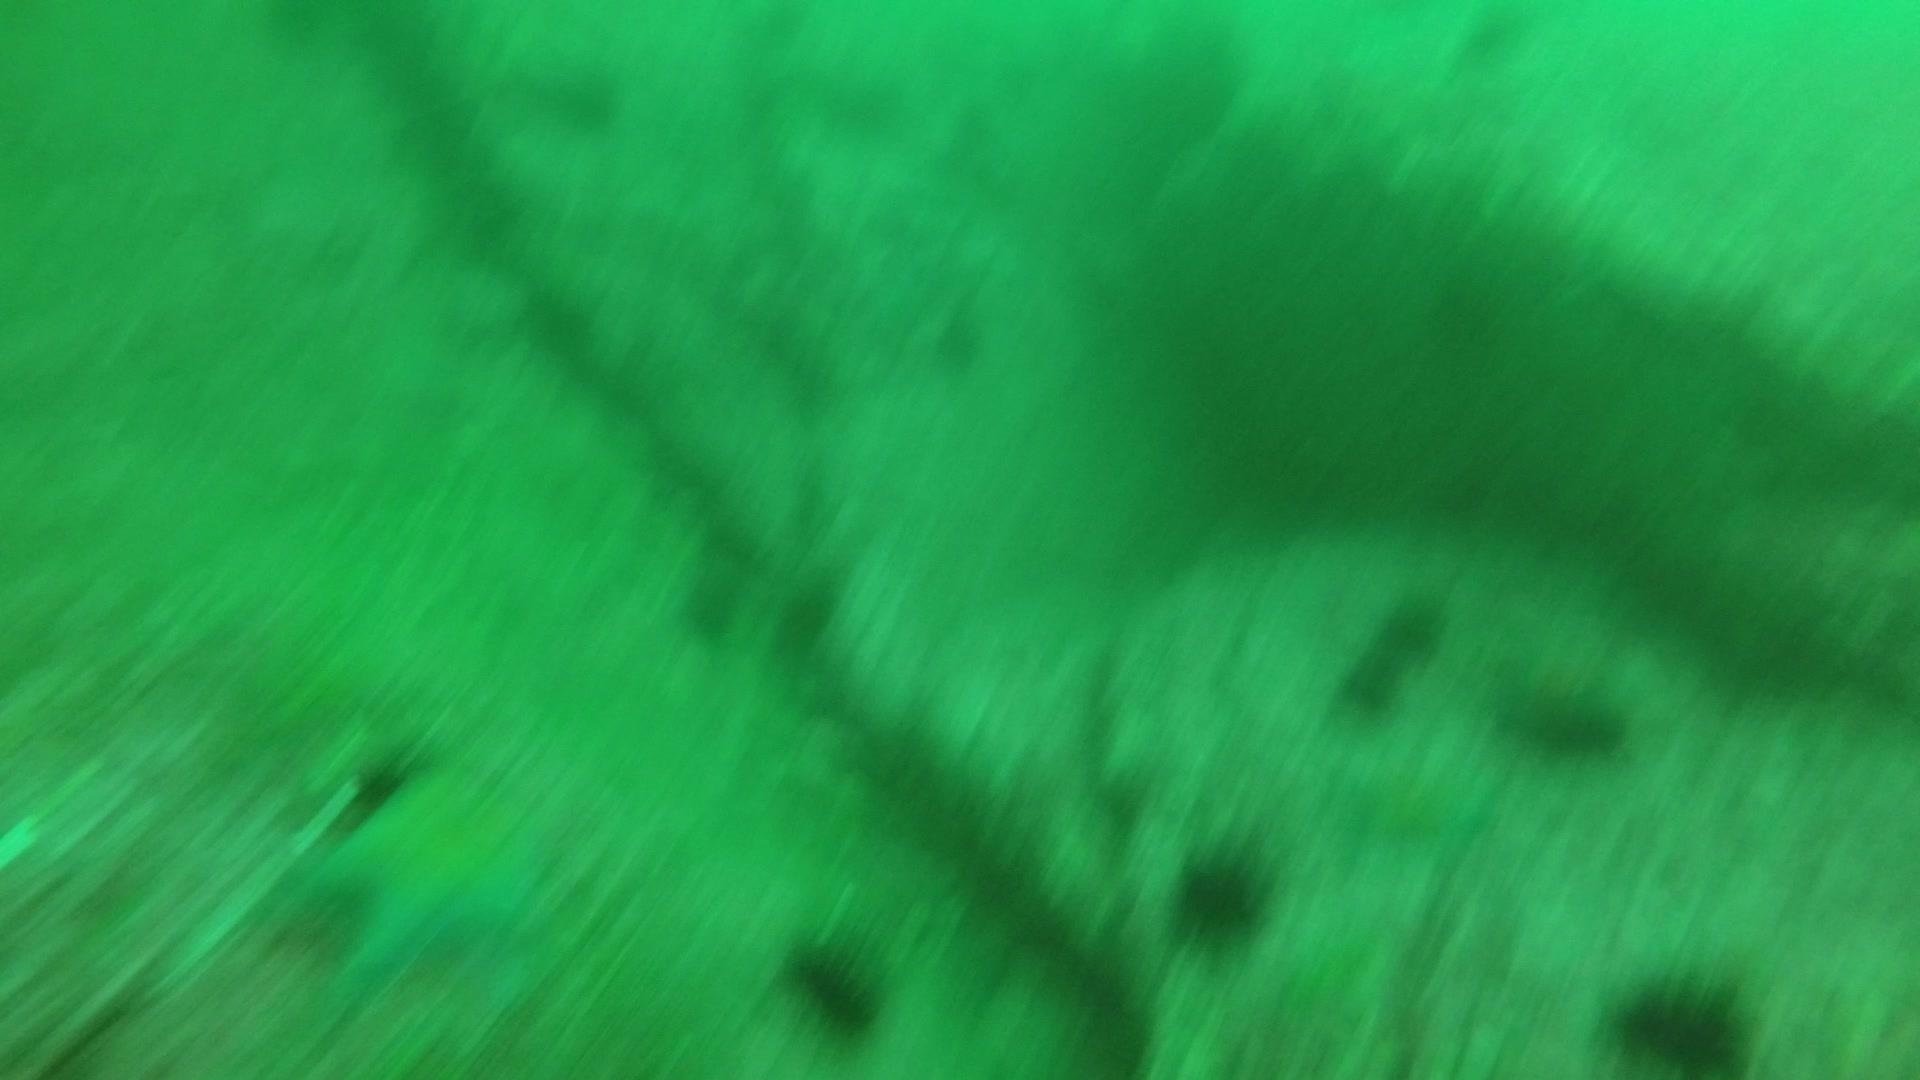echinus: (1601, 968, 1756, 1073), (1495, 670, 1633, 767), (777, 928, 891, 1043), (1167, 840, 1276, 948), (766, 575, 845, 662), (1375, 599, 1451, 669), (1332, 650, 1407, 719)
starfish: (303, 760, 558, 993)
